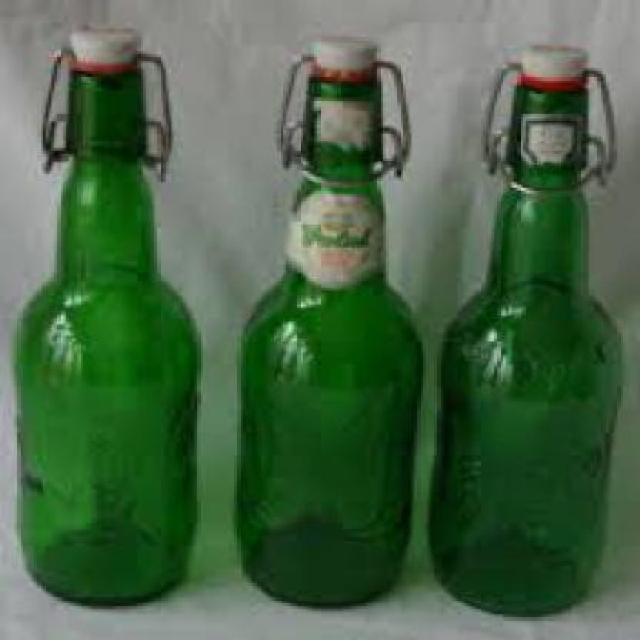kaca: (231, 77, 423, 606), (426, 83, 617, 614), (14, 63, 200, 603)
